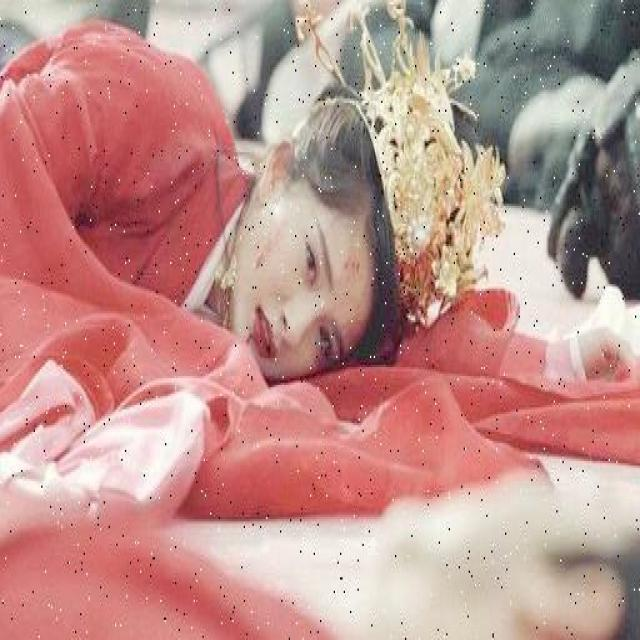fall: (1, 42, 488, 466)
